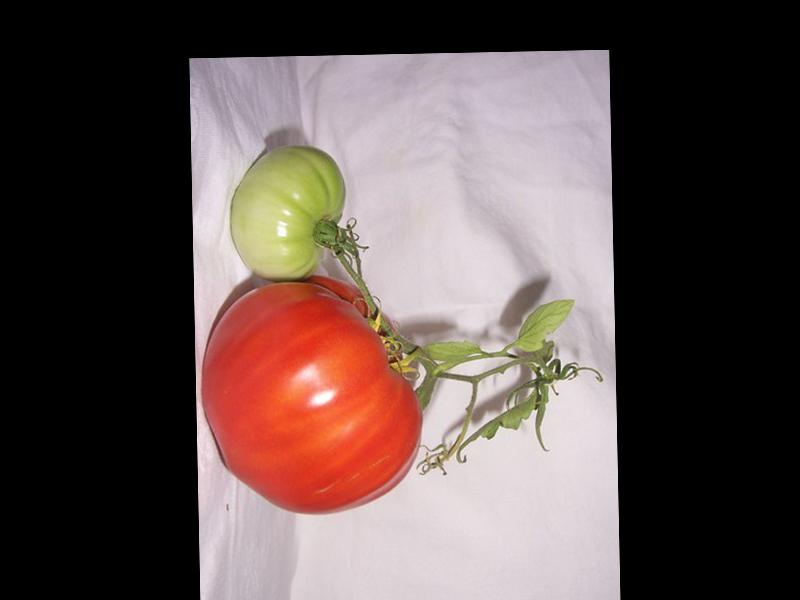Tomato: (201, 272, 424, 516)
